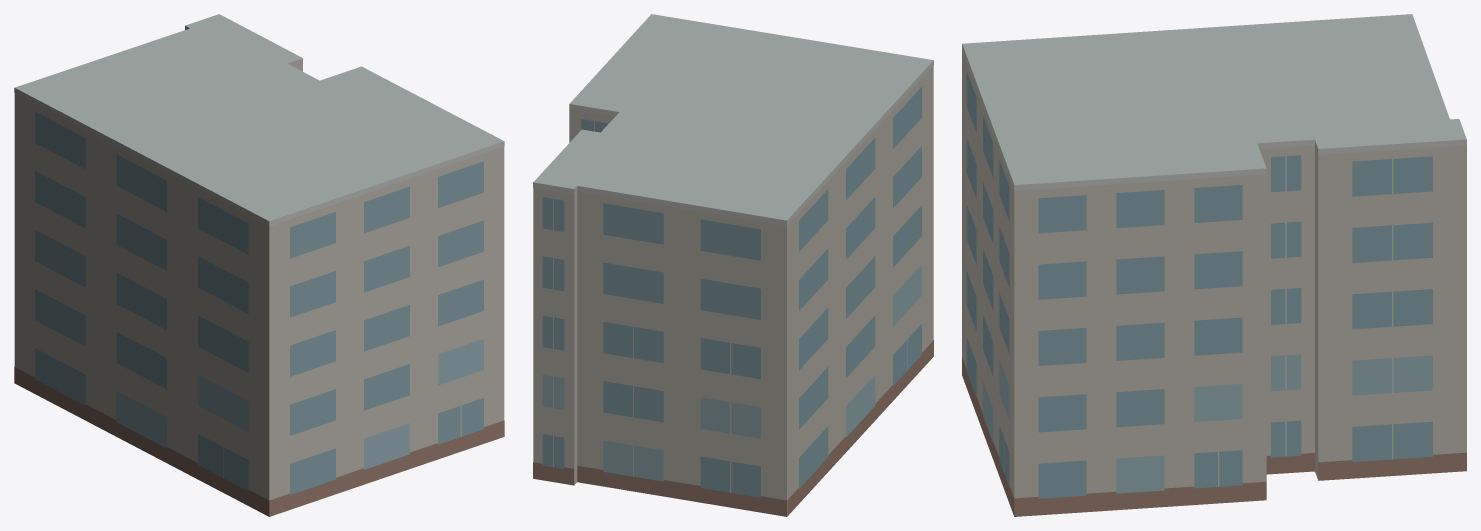
The model's file is survey-upis-32738763.glb.
3 views of the same model, side by side, from view 1: azimuth 30°, elevation 25°; view 2: azimuth 150°, elevation 25°; view 3: azimuth 270°, elevation 25° (orthographic). The views are drawn at different scales.
Parts seen in each view (by area): view 1: survey-upis-32738763.tmp; view 2: survey-upis-32738763.tmp; view 3: survey-upis-32738763.tmp.
Boxes of the visible parts, box(x1,y1,x2,y2) form: survey-upis-32738763.tmp: box(14, 14, 504, 516); survey-upis-32738763.tmp: box(533, 14, 933, 516); survey-upis-32738763.tmp: box(962, 14, 1466, 516).
Size of the model in its own units: 15.43 by 13.94 by 19.23.
